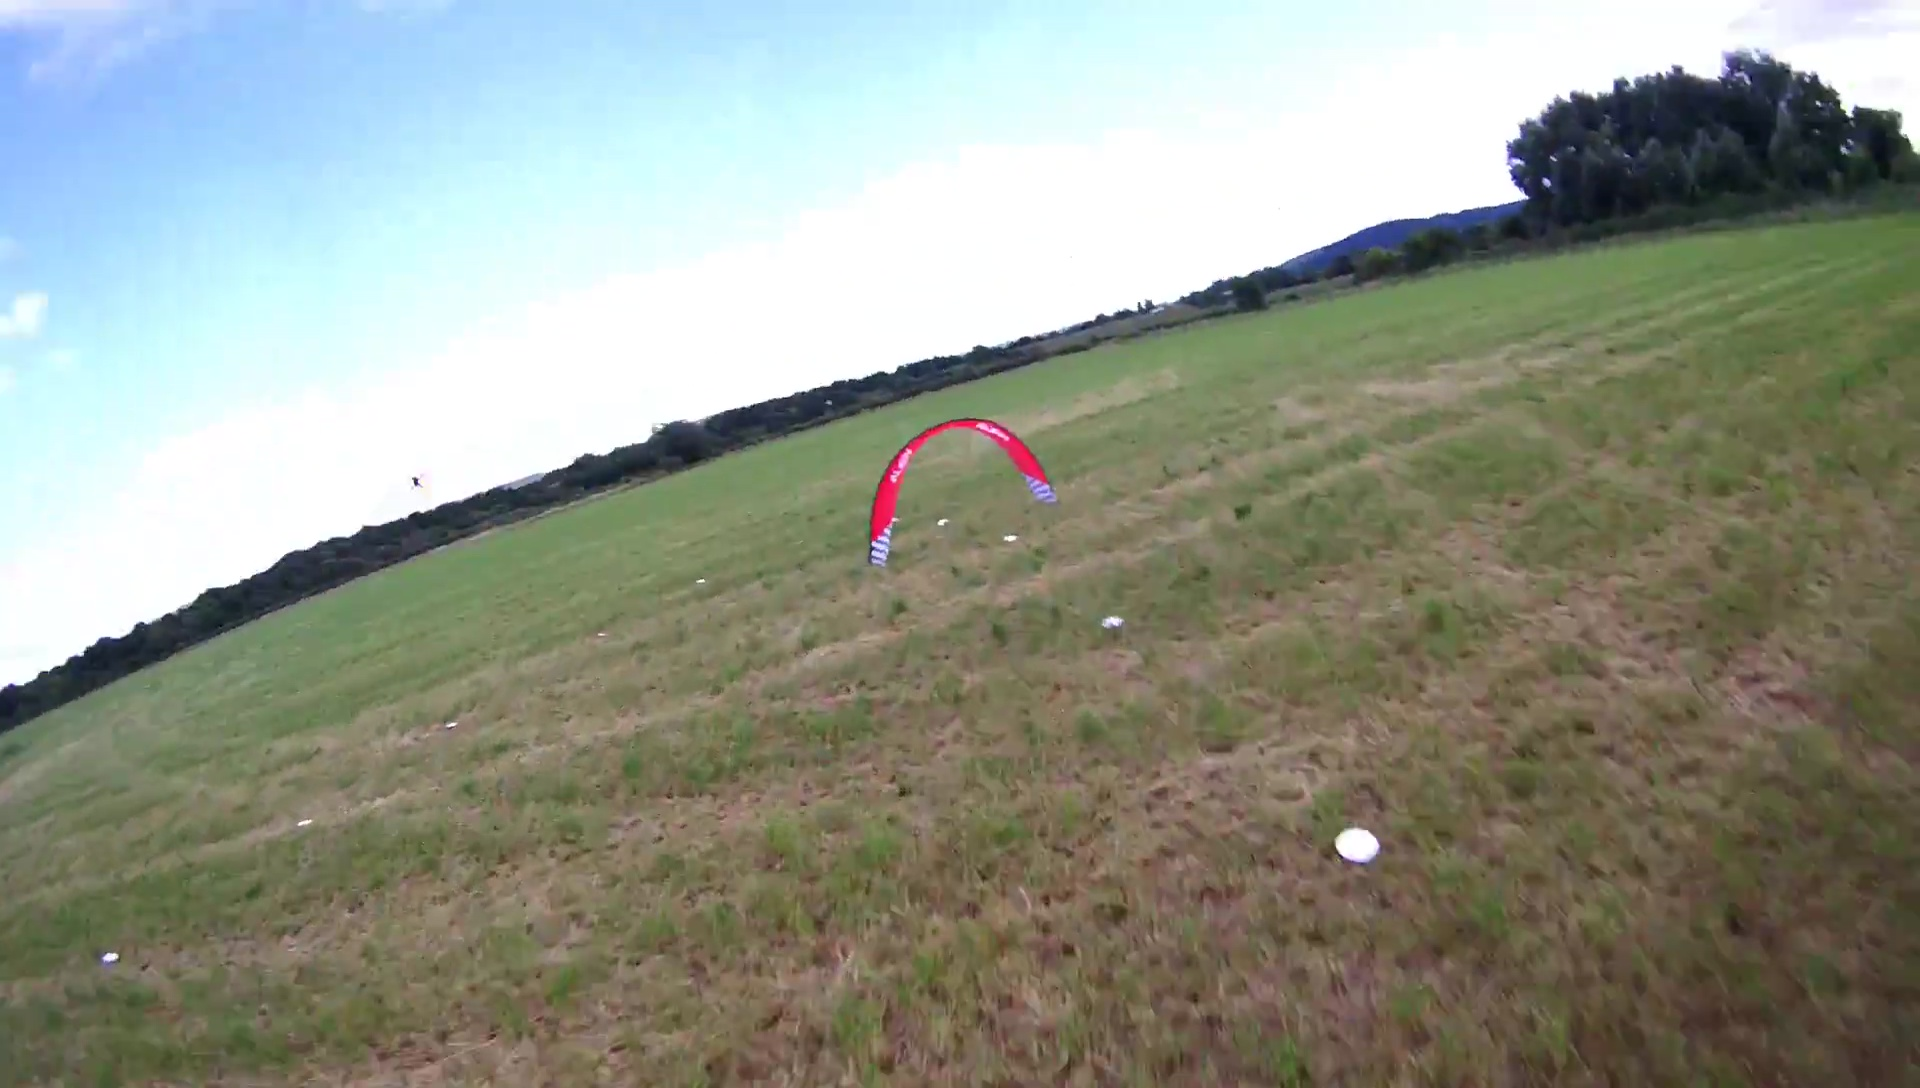gate: (866, 415, 1058, 570)
